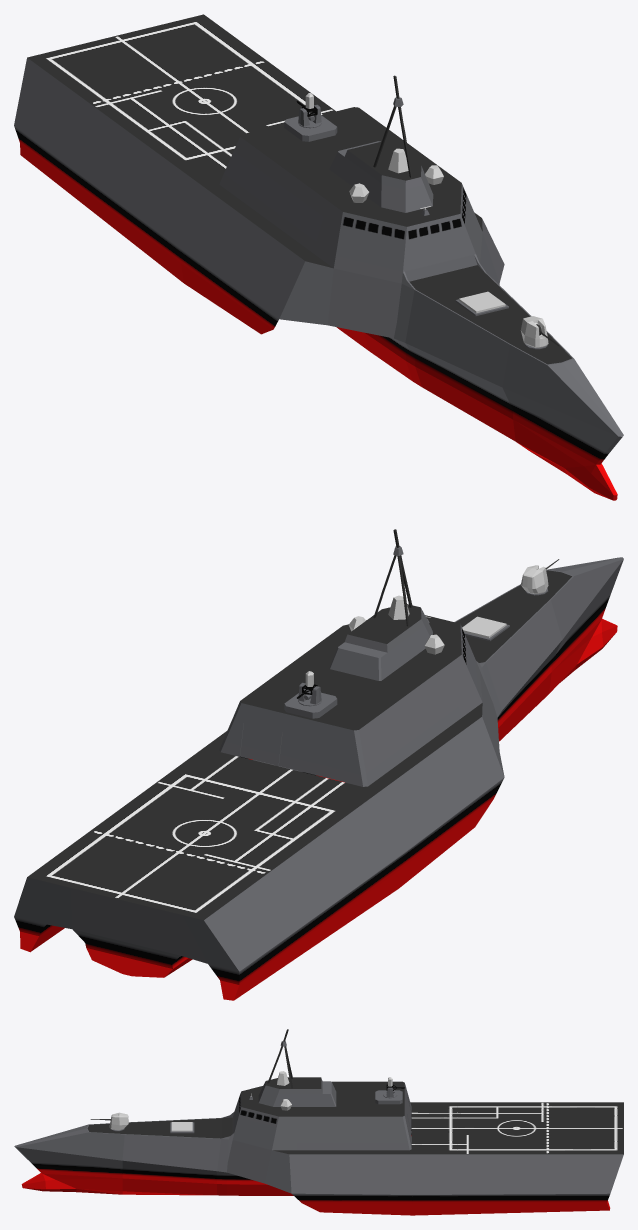
3 views of the same model, one above another, from view 1: azimuth 30°, elevation 25°; view 2: azimuth 150°, elevation 25°; view 3: azimuth 270°, elevation 25° (orthographic). The views are drawn at different scales.
Parts seen in each view (by area): view 1: Cube.016, Circle.009; view 2: Cube.016, Cube.019, Cube.018, Circle.009; view 3: Cube.016, Circle.009.
Boxes of the visible parts, bbox=[...] form: Cube.016: bbox=[14, 14, 623, 500]; Circle.009: bbox=[520, 316, 548, 347]; Cube.016: bbox=[14, 529, 623, 1000]; Cube.019: bbox=[279, 730, 345, 781]; Cube.018: bbox=[240, 721, 278, 764]; Circle.009: bbox=[521, 565, 548, 593]; Cube.016: bbox=[14, 1029, 623, 1215]; Circle.009: bbox=[109, 1112, 128, 1130].
Bounding box in the file's own units: 3237 × 3727 × 12534.
